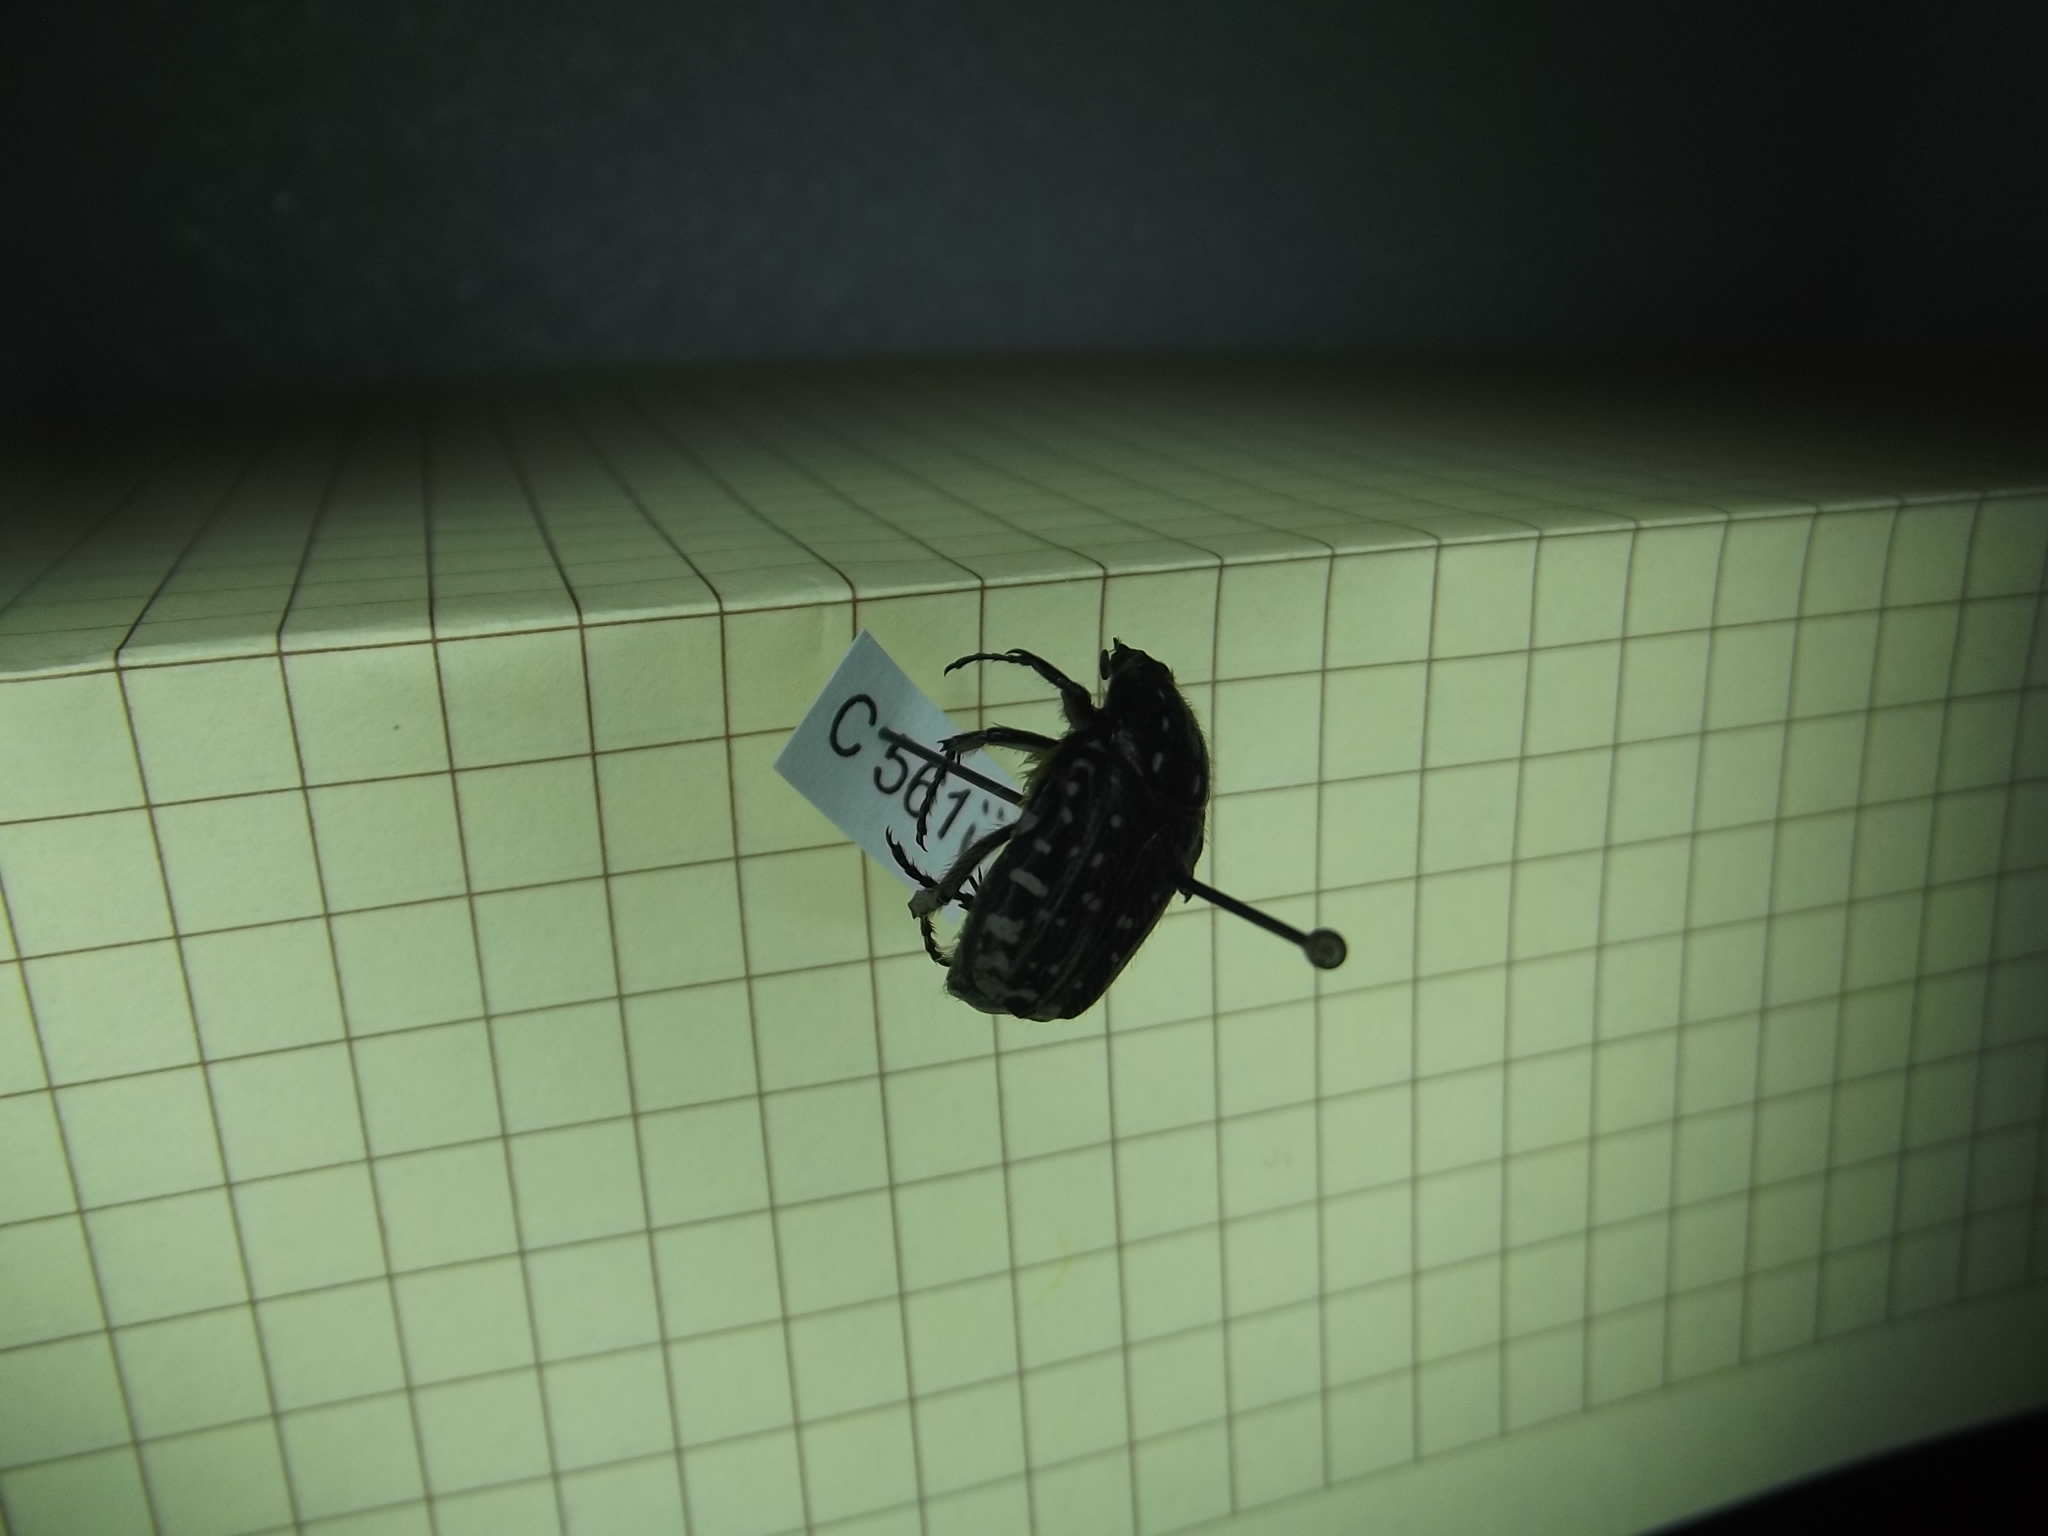Oxythyrea_funesta: (879, 632, 1222, 1041)
